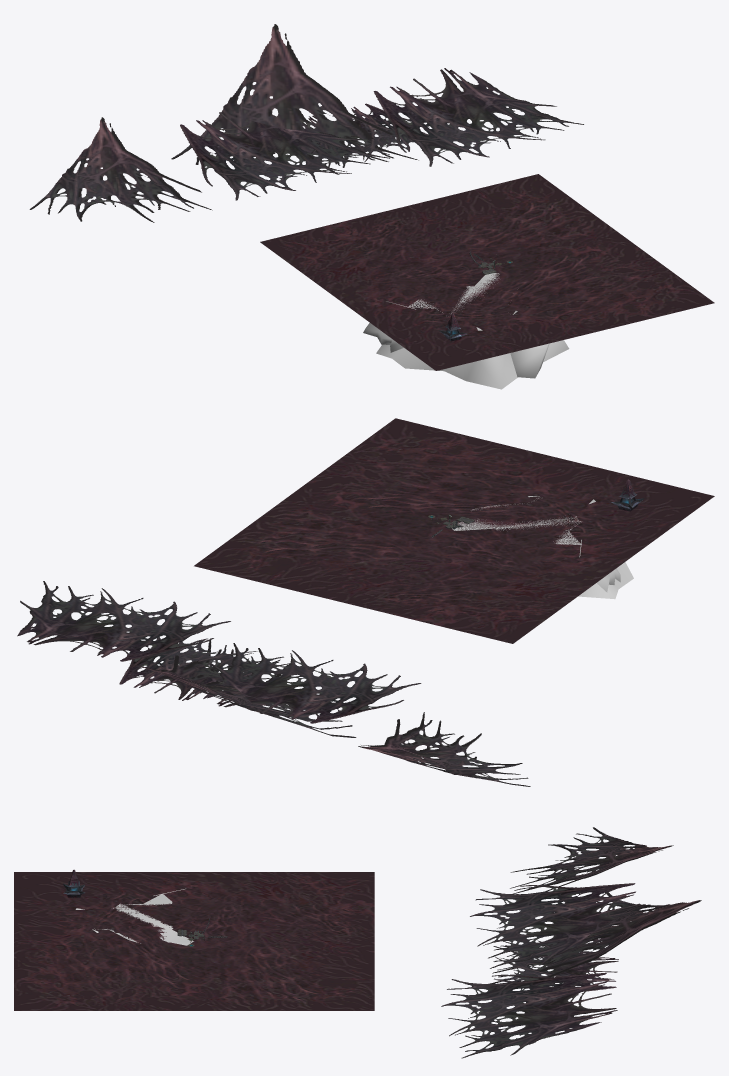
File: f_1105_floor.FBX
3 renders of one model, top to bottom at view 1: azimuth 30°, elevation 25°; view 2: azimuth 150°, elevation 25°; view 3: azimuth 270°, elevation 25°, orthographic. The views are drawn at different scales.
Parts seen in each view (by area): view 1: f_1105_toutie, Object003, Object002, Object004, Object005, f_1103_stage03, Object001; view 2: f_1105_toutie, Object003, Object004, Object005, Object001, Object002, f_1103_stage03; view 3: f_1105_toutie, Object003, Object004, Object002, Object005, Object001, f_1103_stage03.
Part boxes in pixels (left/top/right/bottom): f_1105_toutie: left=260, top=174, right=714, bottom=370; Object003: left=373, top=68, right=583, bottom=166; Object002: left=171, top=24, right=418, bottom=174; Object004: left=180, top=112, right=389, bottom=200; Object005: left=29, top=117, right=212, bottom=222; f_1103_stage03: left=363, top=273, right=569, bottom=389; Object001: left=304, top=103, right=429, bottom=167; f_1105_toutie: left=194, top=418, right=714, bottom=643; Object003: left=17, top=581, right=230, bottom=661; Object004: left=207, top=643, right=421, bottom=723; Object005: left=358, top=712, right=530, bottom=786; Object001: left=119, top=637, right=289, bottom=700; Object002: left=130, top=638, right=356, bottom=737; f_1103_stage03: left=452, top=496, right=633, bottom=599; f_1105_toutie: left=14, top=872, right=374, bottom=1010; Object003: left=441, top=973, right=617, bottom=1058; Object004: left=470, top=883, right=640, bottom=968; Object002: left=490, top=892, right=701, bottom=983; Object005: left=510, top=827, right=673, bottom=894; Object001: left=494, top=940, right=618, bottom=994; f_1103_stage03: left=75, top=888, right=193, bottom=945.
Bounding box in the file's own units: 1801 × 340 × 2048.
